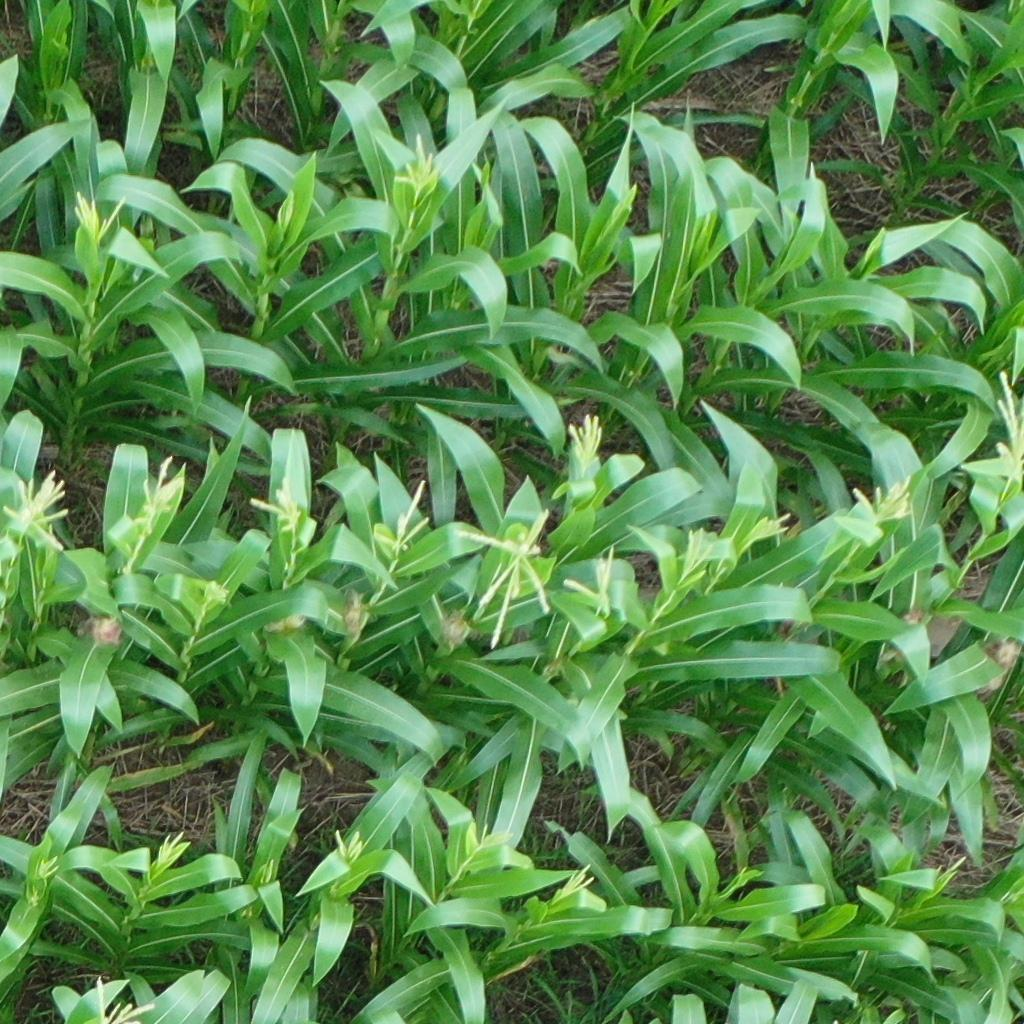Tassel: (450, 495, 556, 651), (3, 467, 78, 559), (371, 475, 433, 554), (555, 545, 619, 619), (125, 454, 174, 538), (988, 370, 1021, 484), (245, 477, 305, 535), (847, 474, 918, 521), (90, 974, 155, 1024), (72, 187, 125, 238), (397, 133, 439, 197), (672, 524, 711, 582), (563, 414, 605, 464), (552, 862, 599, 906), (151, 825, 182, 871), (751, 509, 793, 542), (473, 823, 511, 853), (333, 828, 362, 865), (35, 850, 59, 883), (203, 579, 232, 604)
